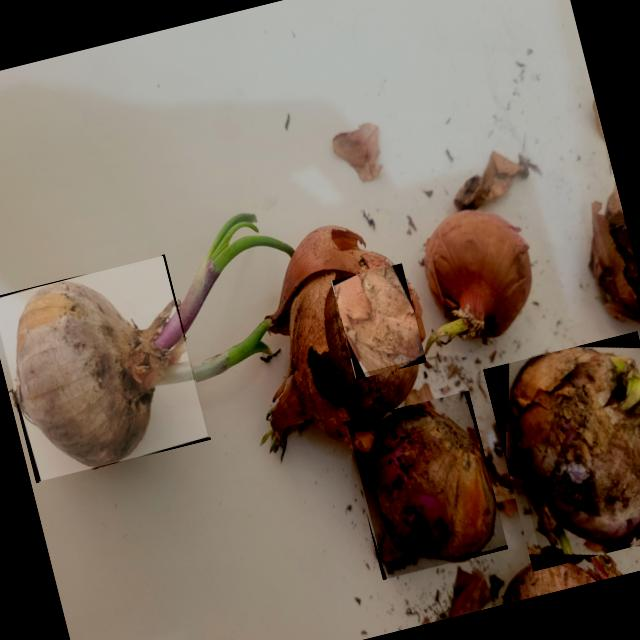rotten: (14, 282, 174, 468), (506, 347, 640, 553), (369, 405, 496, 568), (344, 270, 419, 360)
